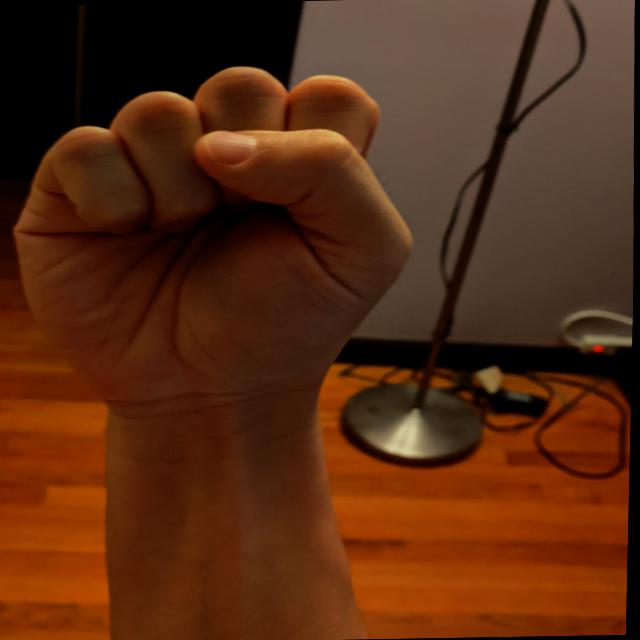S: (0, 52, 429, 412)
